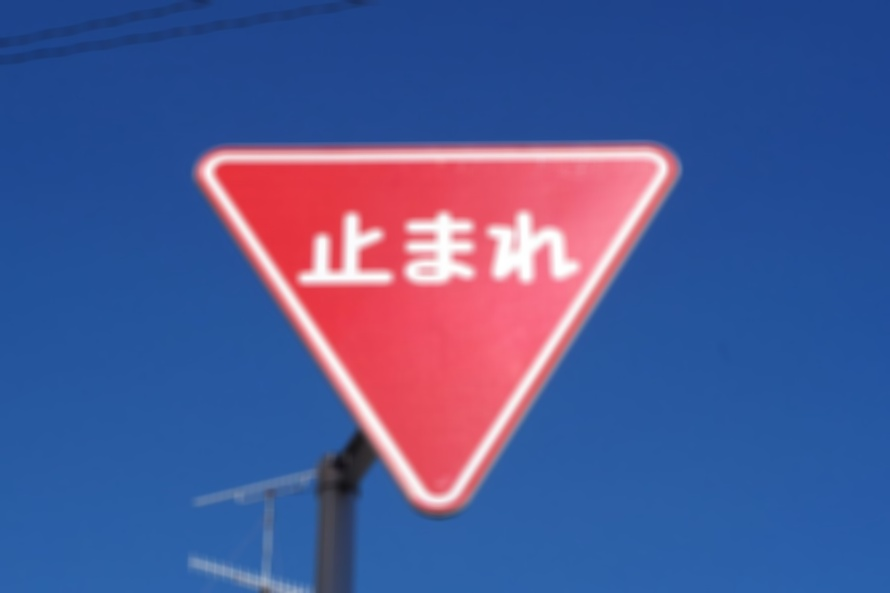Regulatory_sign_triangle: (181, 128, 697, 525)
